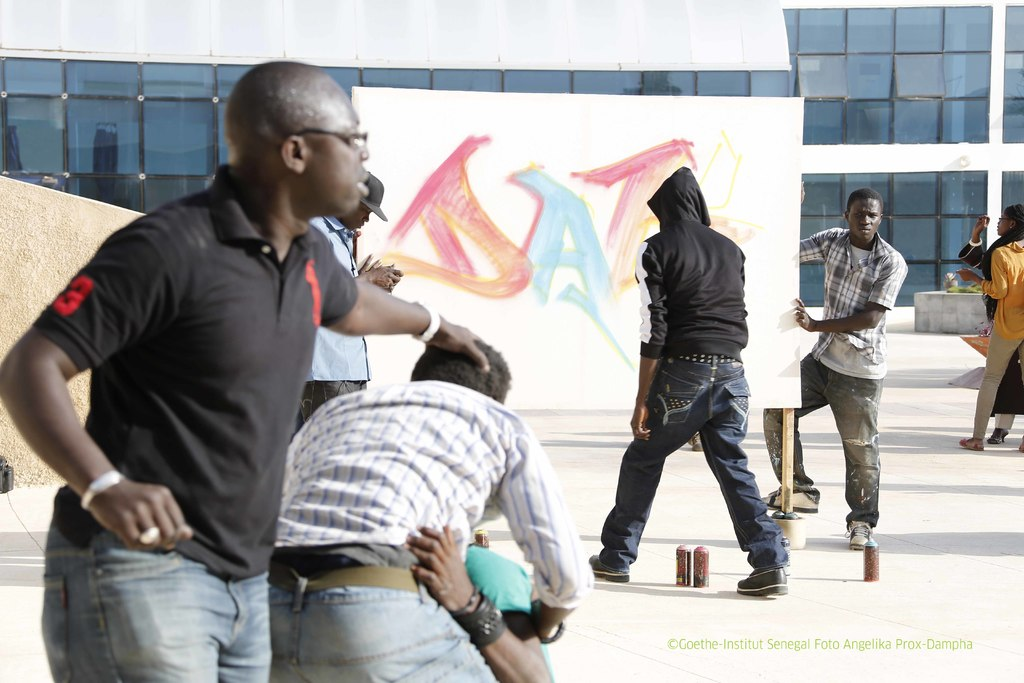Footwear: (740, 531, 800, 600), (762, 487, 817, 512), (588, 551, 628, 582), (845, 516, 875, 552), (986, 425, 1009, 446), (957, 440, 979, 451), (692, 432, 703, 450)
